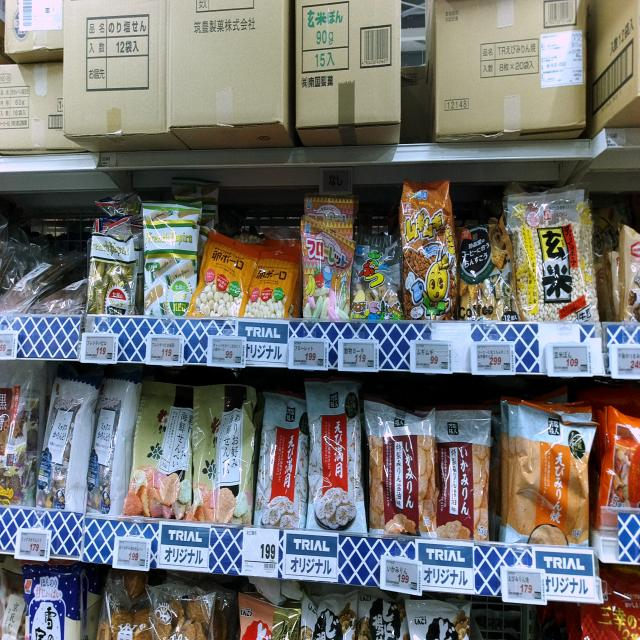objects: (500, 566, 549, 606), (380, 554, 424, 597), (243, 527, 279, 578), (547, 342, 594, 377), (409, 339, 454, 374), (471, 341, 515, 375), (289, 336, 329, 372), (146, 332, 184, 368), (113, 536, 151, 571), (207, 334, 247, 367), (338, 339, 379, 371), (16, 529, 52, 560), (82, 333, 117, 363), (611, 344, 640, 378), (0, 330, 18, 360)
